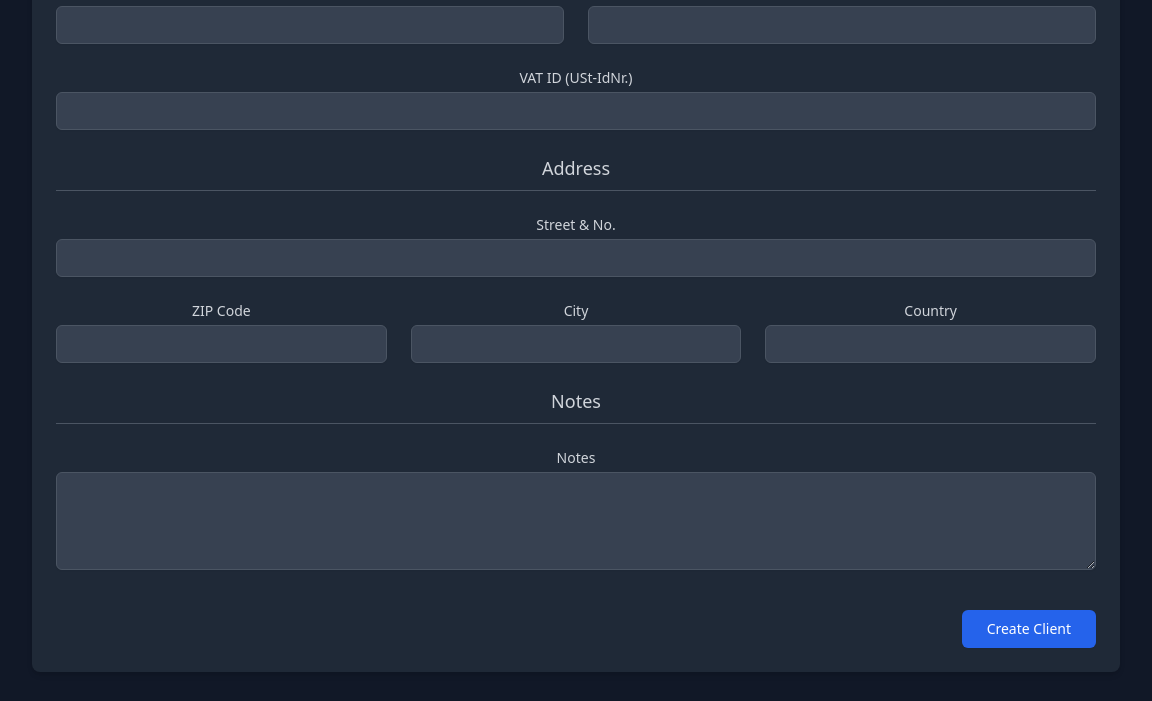
Test: AddClientPage › shows validation error for required fields
(page scrolled)
Click the button "Create Client". click: coordinates (1029, 629)
box: [962, 610, 1096, 648]
(page scrolled)
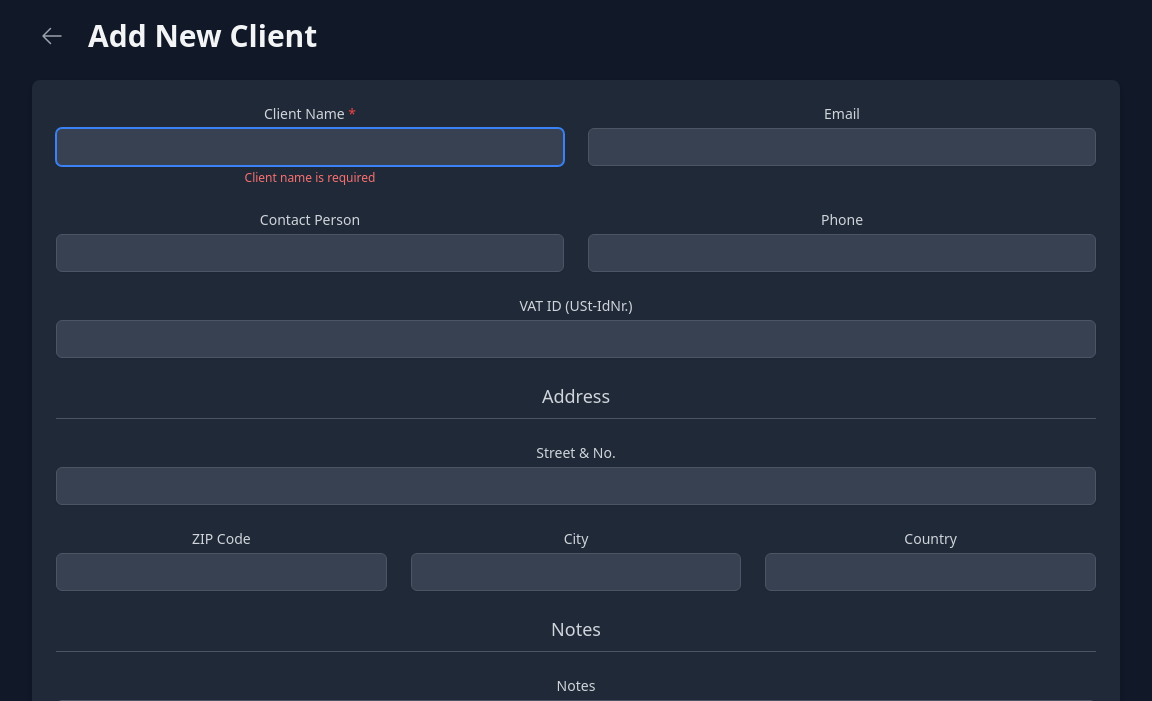
Expected: the text "Client name is required" is shown, [245, 169, 376, 186]
